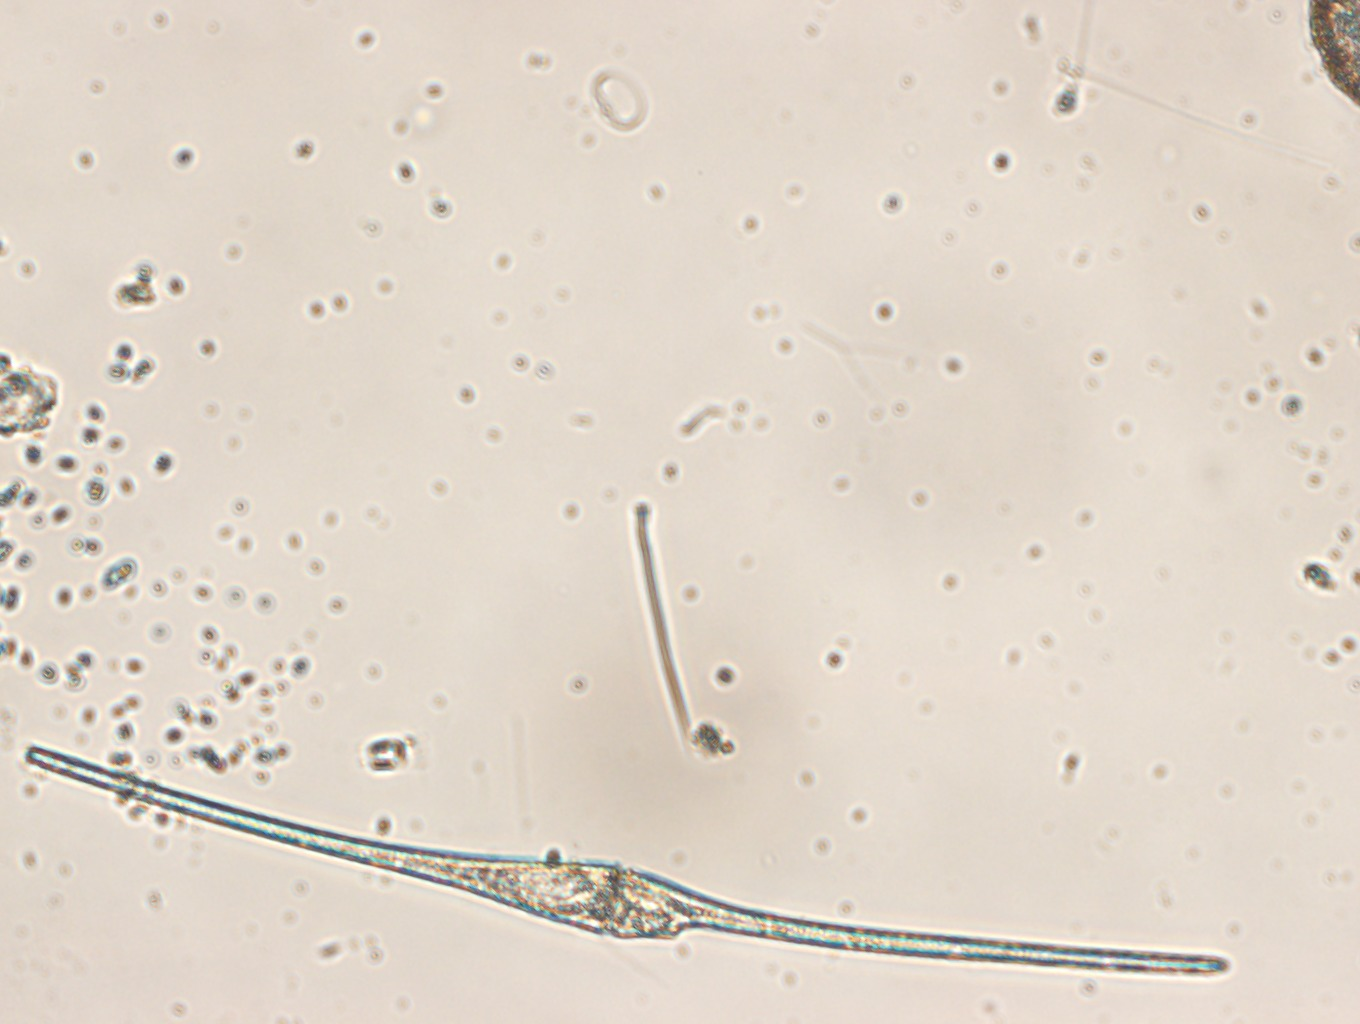ceratium fusus: (25, 745, 1229, 977)
